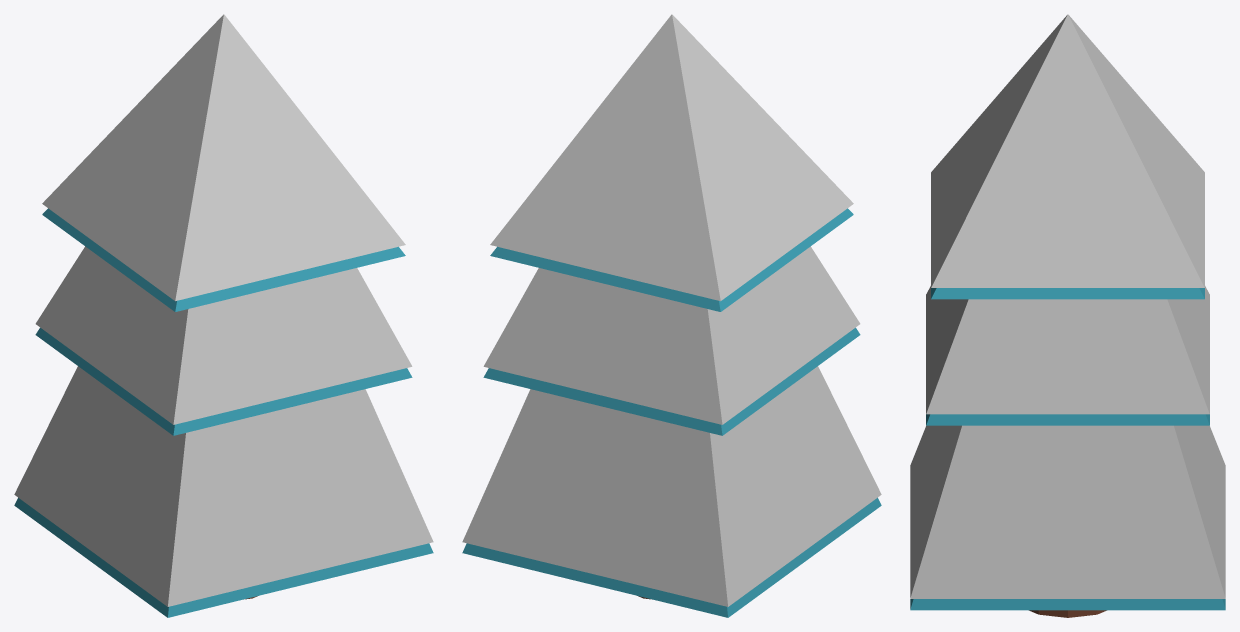
Rendered from Tree_18_winter_blue_vc.fbx.
3 views of the same model, side by side, from view 1: azimuth 30°, elevation 25°; view 2: azimuth 150°, elevation 25°; view 3: azimuth 270°, elevation 25° (orthographic). The views are drawn at different scales.
Parts seen in each view (by area): view 1: Tree_18_winter_blue_vc; view 2: Tree_18_winter_blue_vc; view 3: Tree_18_winter_blue_vc.
Boxes of the visible parts, x1,y1,x2,y2 form: Tree_18_winter_blue_vc: (14, 14, 433, 617); Tree_18_winter_blue_vc: (462, 14, 881, 617); Tree_18_winter_blue_vc: (910, 14, 1225, 617).
Bounding box in the file's own units: 95.96 × 194 × 95.96.
